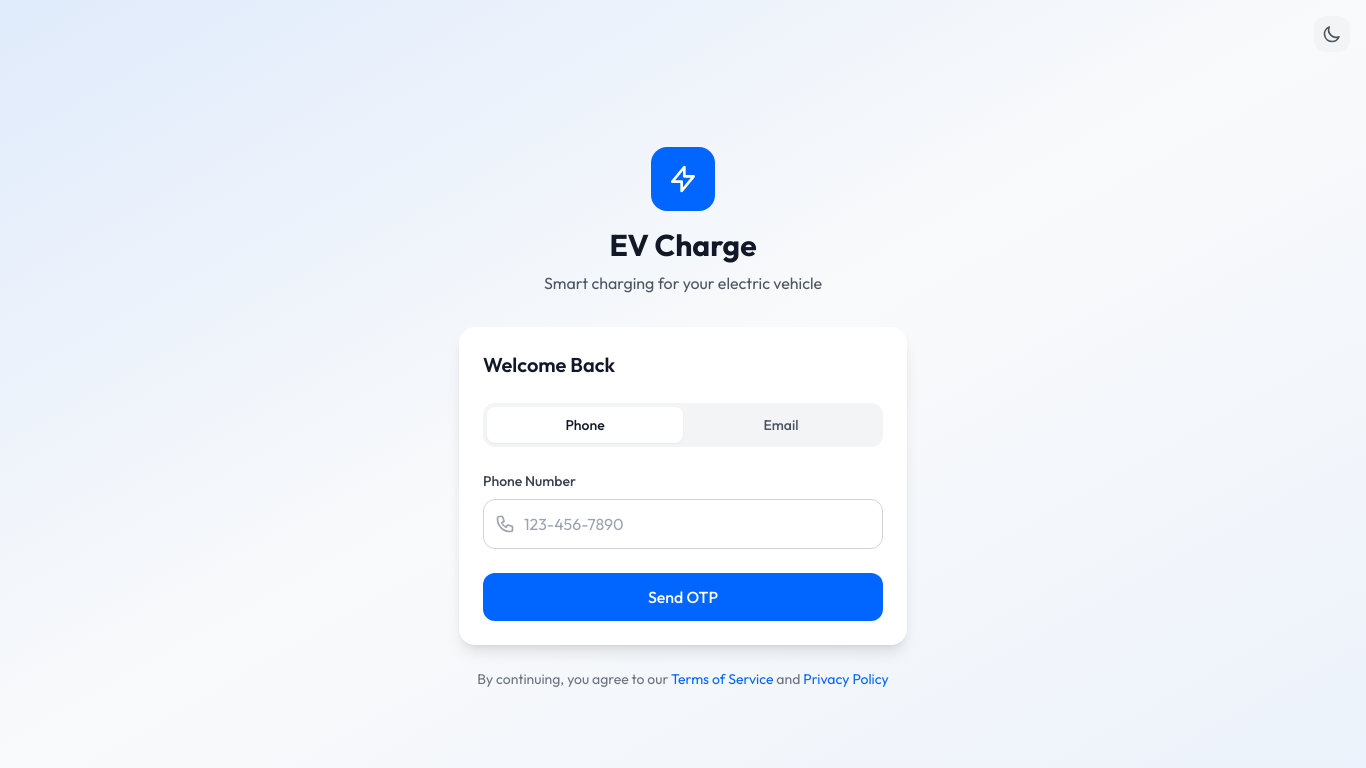
Scenario: Login Component › proceeds to OTP screen with valid phone number
Type "9876543210" into the field labelled "Phone Number" at (683, 524), box [483,499,883,549]
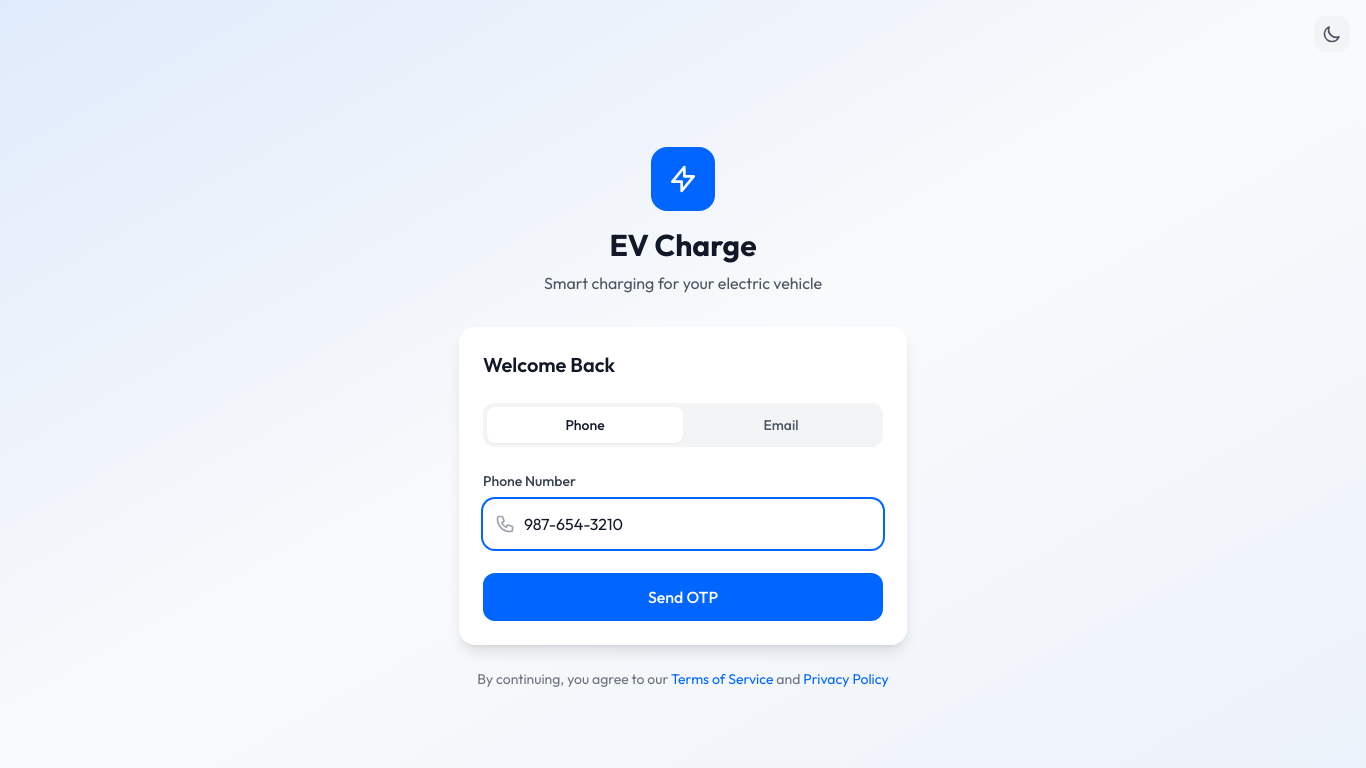
Click the button "Send OTP" at (683, 597), box [483,573,883,621]
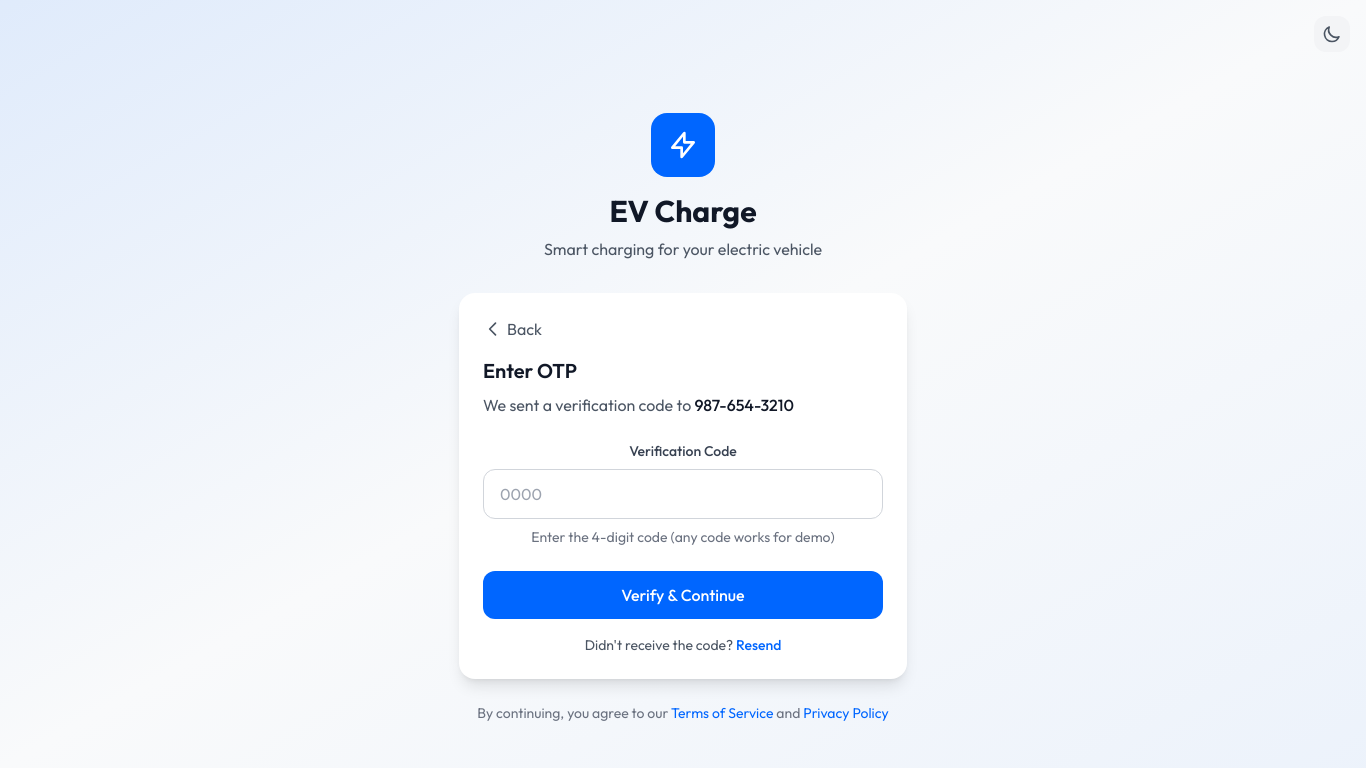
Result: the heading "Enter OTP" is shown at [483,358,577,383]
